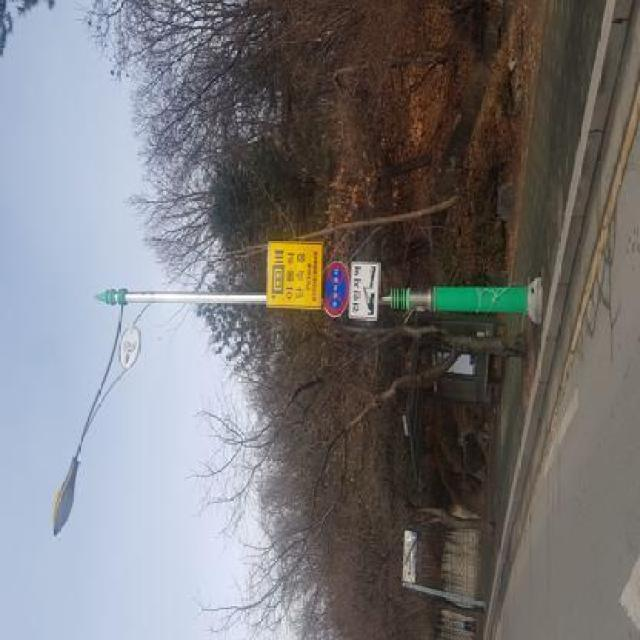pole: (109, 278, 554, 322)
